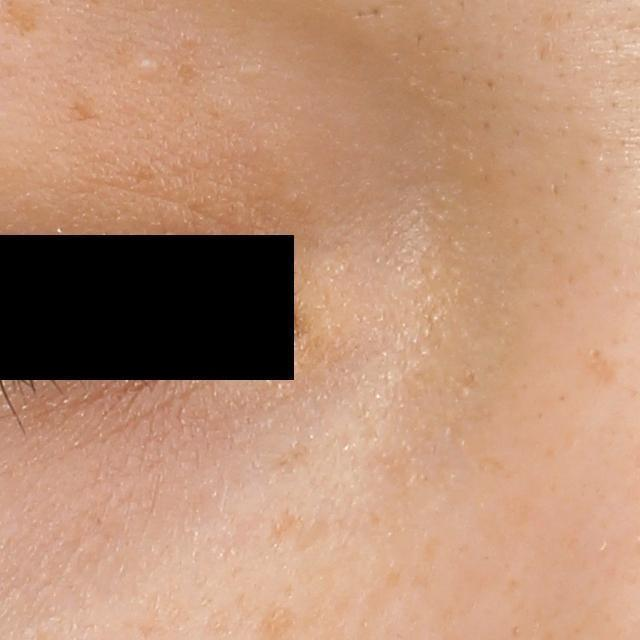melasma: (575, 346, 621, 385), (271, 442, 313, 470), (72, 101, 101, 123)
